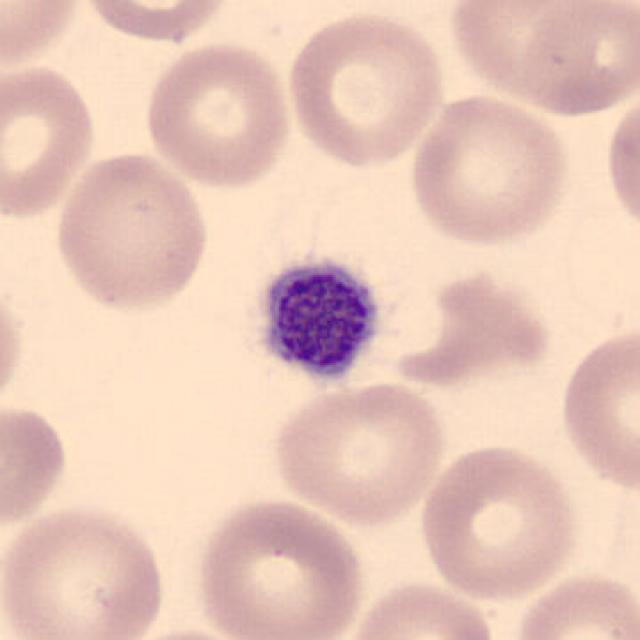Platelets: (242, 249, 391, 395)
RBC: (50, 146, 215, 316), (281, 7, 450, 171), (414, 439, 583, 603), (268, 376, 450, 527), (404, 90, 574, 250), (192, 493, 368, 640), (0, 500, 169, 640), (141, 39, 295, 192), (381, 262, 558, 390), (480, 0, 635, 120), (0, 58, 100, 224), (555, 323, 638, 499), (337, 576, 501, 640), (0, 397, 73, 536), (506, 567, 638, 640), (76, 0, 236, 46), (0, 0, 84, 74), (601, 85, 640, 243), (0, 273, 28, 417), (100, 626, 268, 640)
